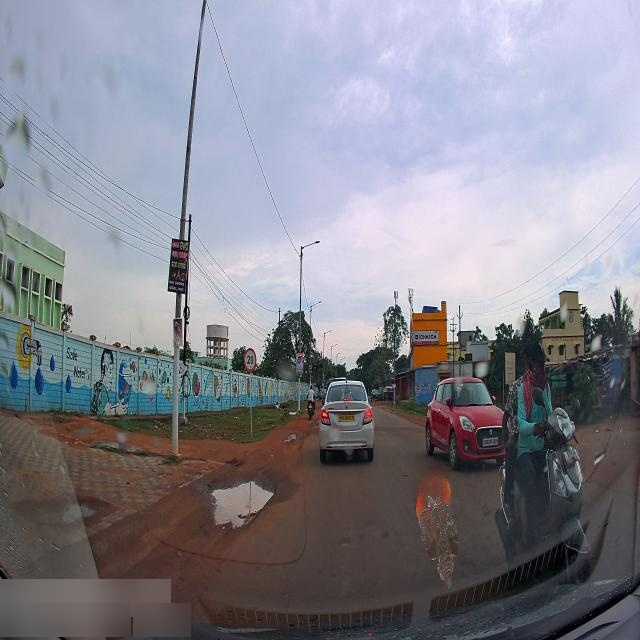pothole: (203, 479, 275, 527), (23, 494, 96, 533), (281, 428, 300, 448)
